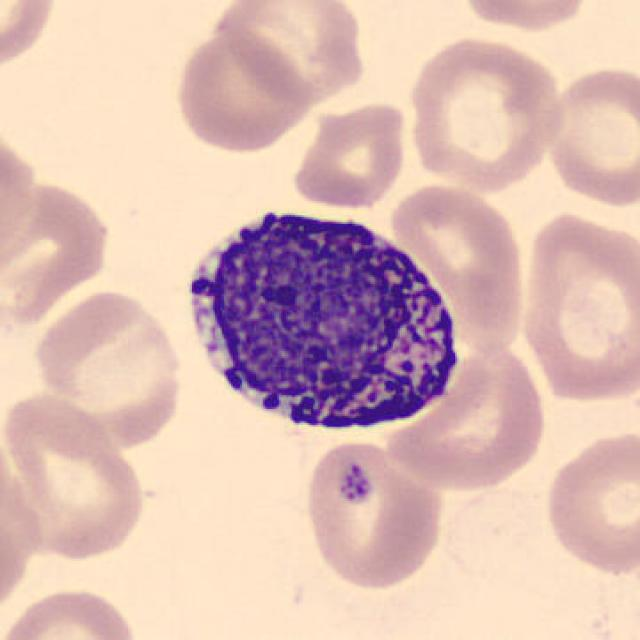Basophil: (170, 194, 474, 444)
Platelets: (322, 447, 390, 513)
RBC: (381, 335, 551, 495), (402, 32, 569, 194), (0, 386, 148, 563), (386, 178, 530, 354), (28, 286, 186, 446), (514, 206, 638, 408), (299, 436, 448, 592), (170, 26, 316, 157), (213, 0, 370, 106), (540, 423, 638, 578), (0, 188, 106, 326), (542, 60, 638, 212), (288, 99, 411, 213), (0, 583, 142, 640), (0, 121, 37, 275), (455, 0, 595, 35), (0, 0, 62, 76)
